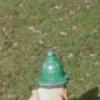a fire hydrant: (29, 49, 70, 100)
